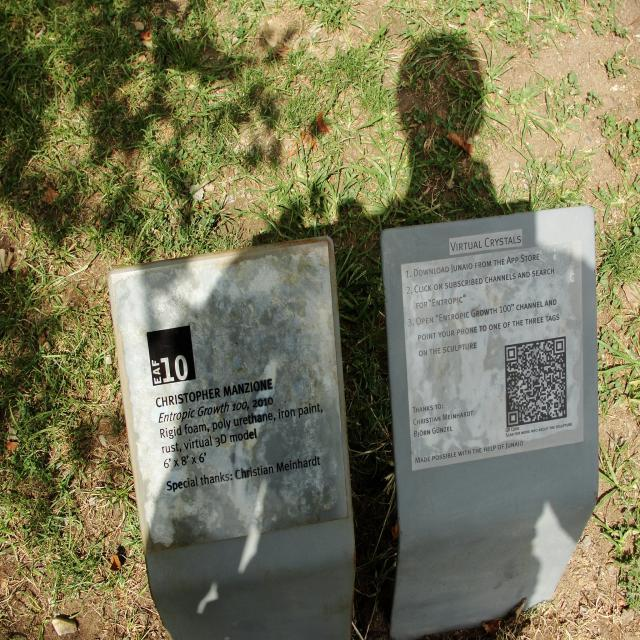qrcode: (507, 339, 566, 426)
